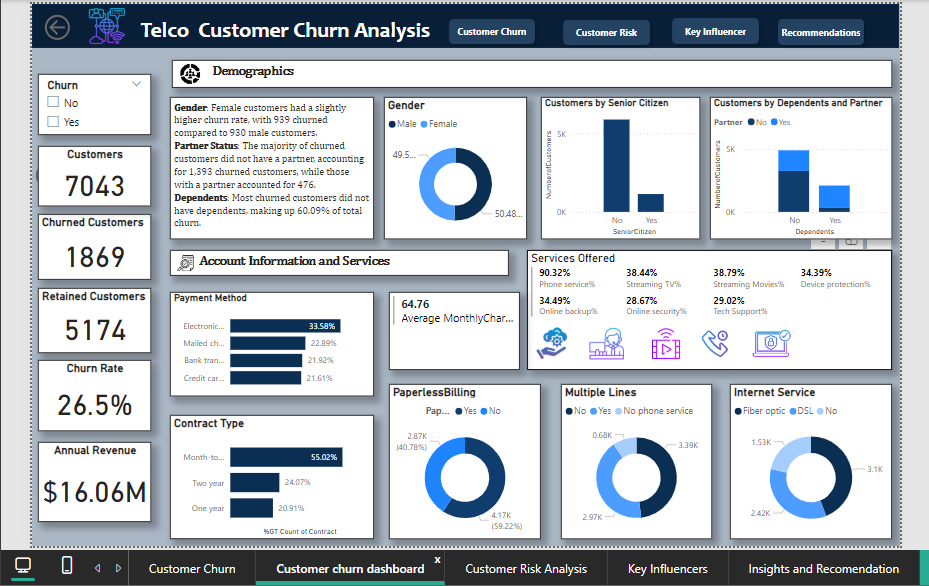

Layout of this report page (visuals, bound fields, positions):
{"tool":"powerbi","page":{"name":"Customer churn dashboard","canvas":[1280,800],"ordinal":1},"visuals":[{"type":"card","title":"Churned Customers ","fields":{"Values":["01 Churn-Dataset.churn count"]},"box":[8.9,310,166.8,97.4],"z":0},{"type":"donutChart","title":"Gender","fields":{"Category":["01 Churn-Dataset.gender"],"Y":["CountNonNull(01 Churn-Dataset.gender)"]},"box":[519.6,137.3,211.1,209.6],"z":1000},{"type":"barChart","title":" Payment Method","fields":{"Category":["01 Churn-Dataset.PaymentMethod"],"Y":["CountNonNull(01 Churn-Dataset.PaymentMethod)"]},"box":[203.7,425.1,301.1,153.5],"z":2000},{"type":"barChart","title":" Contract Type","fields":{"Category":["01 Churn-Dataset.Contract"],"Y":["CountNonNull(01 Churn-Dataset.Contract)"]},"box":[203.7,606.6,301.1,183],"z":3000},{"type":"multiRowCard","title":"Services Offered","fields":{"Values":["01 Churn-Dataset.Phone service in %","01 Churn-Dataset.Streaming TV in %","01 Churn-Dataset.Streaming Movies in %","01 Churn-Dataset.Device protection in %","01 Churn-Dataset.Online backup in %","01 Churn-Dataset.Online security in %","01 Churn-Dataset.Tech Support in %"]},"box":[730.6,363.1,538.7,177.1],"z":4000},{"type":"donutChart","title":" PaperlessBilling","fields":{"Category":["01 Churn-Dataset.PaperlessBilling"],"Y":["CountNonNull(Telco-Customer-Churn.customerID)"]},"box":[526.9,560.9,224.4,228.8],"z":5000},{"type":"donutChart","title":" Multiple Lines","fields":{"Category":["01 Churn-Dataset.MultipleLines"],"Y":["CountNonNull(01 Churn-Dataset.MultipleLines)"]},"box":[780.8,560.9,222.9,228.8],"z":6000},{"type":"donutChart","title":" Internet Service","fields":{"Category":["01 Churn-Dataset.InternetService"],"Y":["CountNonNull(01 Churn-Dataset.InternetService)"]},"box":[1030.3,560.9,239.1,228.8],"z":7000},{"type":"slicer","fields":{"Values":["01 Churn-Dataset.Churn"]},"box":[8.9,103.3,166.8,90],"z":8000},{"type":"actionButton","box":[767.5,234.7,144.6,54.6],"z":9000},{"type":"actionButton","box":[1055.4,262.7,146.1,54.6],"z":10000},{"type":"actionButton","box":[0,228.8,51.7,48.7],"z":11000},{"type":"clusteredColumnChart","title":"Customers by Senior Citizen","fields":{"Y":["01 Churn-Dataset.NumberofCustomers"],"Category":["01 Churn-Dataset.SeniorCitizen"]},"box":[751.3,137.3,234.7,209.6],"z":12000},{"type":"columnChart","title":"Customers by Dependents and Partner","fields":{"Category":["01 Churn-Dataset.Dependents"],"Y":["01 Churn-Dataset.NumberofCustomers"],"Series":["01 Churn-Dataset.Partner"]},"box":[1000.7,137.3,268.6,209.6],"z":13000},{"type":"card","title":"Customers","fields":{"Values":["01 Churn-Dataset.NumberofCustomers"]},"box":[8.9,209.6,166.8,88.6],"z":14000},{"type":"card","title":"Retained Customers","fields":{"Values":["01 Churn-Dataset.RetainedCustomers"]},"box":[8.9,419.2,166.8,95.9],"z":15000},{"type":"card","title":"Churn Rate","fields":{"Values":["01 Churn-Dataset.churn rate %"]},"box":[8.9,525.5,166.8,104.8],"z":16000},{"type":"textbox","box":[206.6,82.7,1062.7,41.3],"z":17000},{"type":"textbox","box":[203.7,363.1,500.4,38.4],"z":18000},{"type":"image","box":[208.1,82.7,51.7,41.3],"z":19000},{"type":"image","box":[208.1,363.1,36.9,38.4],"z":20000},{"type":"textbox","box":[203.7,137.3,301.1,209.6],"z":21000},{"type":"card","title":"Annual Revenue","fields":{"Values":["Sum(Telco-Customer-Churn.TotalCharges)"]},"box":[8.9,646.5,166.8,118.1],"z":22000},{"type":"multiRowCard","fields":{"Values":["Telco-Customer-Churn.Average MonthlyCharges"]},"box":[526.9,425.1,193.4,115.1],"z":23000},{"type":"image","box":[736.5,470.8,62,60.5],"z":24000},{"type":"image","box":[817.7,470.8,62,60.5],"z":25000},{"type":"image","box":[900.4,470.8,70.8,60.5],"z":26000},{"type":"image","box":[971.2,470.8,72.3,60.5],"z":27000},{"type":"image","box":[1053.9,467.9,75.3,66.4],"z":28000},{"type":"shape","box":[0,0,1279.7,64.9],"z":29000},{"type":"textbox","box":[155,13.3,485.6,51.7],"z":30000},{"type":"actionButton","box":[13.3,10,51.7,48.3],"z":34000},{"type":"image","box":[64.9,0,90,64.9],"z":35000},{"type":"actionButton","box":[606.6,13.3,144.6,54.6],"z":35001},{"type":"actionButton","box":[774.9,14.8,146.1,54.6],"z":35002},{"type":"actionButton","box":[1092.3,13.3,144.6,56.1],"z":35003},{"type":"actionButton","box":[935.8,11.8,146.1,56.1],"z":35004}]}

Visuals, with their boxes in screenshot pixels (x1, y1, x2, y2):
"Churned Customers " card: (30, 214, 145, 281)
"Gender" donutChart: (383, 95, 529, 239)
" Payment Method" barChart: (165, 293, 373, 399)
" Contract Type" barChart: (165, 419, 373, 545)
"Services Offered" multiRowCard: (529, 251, 900, 373)
" PaperlessBilling" donutChart: (388, 387, 543, 545)
" Multiple Lines" donutChart: (563, 387, 717, 545)
" Internet Service" donutChart: (735, 387, 901, 545)
slicer - 01 Churn-Dataset.Churn: (30, 71, 145, 133)
actionButton: (554, 162, 654, 200)
actionButton: (753, 181, 854, 219)
actionButton: (24, 158, 60, 192)
"Customers by Senior Citizen" clusteredColumnChart: (543, 95, 705, 239)
"Customers by Dependents and Partner" columnChart: (715, 95, 900, 239)
"Customers" card: (30, 145, 145, 206)
"Retained Customers" card: (30, 289, 145, 356)
"Churn Rate" card: (30, 363, 145, 435)
textbox: (167, 57, 900, 86)
textbox: (165, 251, 510, 277)
image: (168, 57, 204, 86)
image: (168, 251, 193, 277)
textbox: (165, 95, 373, 239)
"Annual Revenue" card: (30, 446, 145, 528)
multiRowCard - Telco-Customer-Churn.Average MonthlyCharges: (388, 293, 521, 373)
image: (533, 325, 575, 367)
image: (589, 325, 632, 367)
image: (646, 325, 695, 367)
image: (695, 325, 745, 367)
image: (752, 323, 804, 369)
shape: (24, 0, 908, 45)
textbox: (131, 9, 466, 45)
actionButton: (33, 7, 69, 40)
image: (69, 0, 131, 45)
actionButton: (443, 9, 543, 47)
actionButton: (559, 10, 660, 48)
actionButton: (778, 9, 878, 48)
actionButton: (670, 8, 771, 47)
